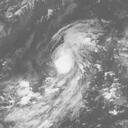cyclone: (48, 17, 108, 76)
